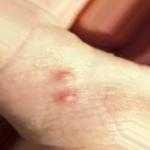Ants: (57, 90, 78, 106), (50, 69, 73, 83)
